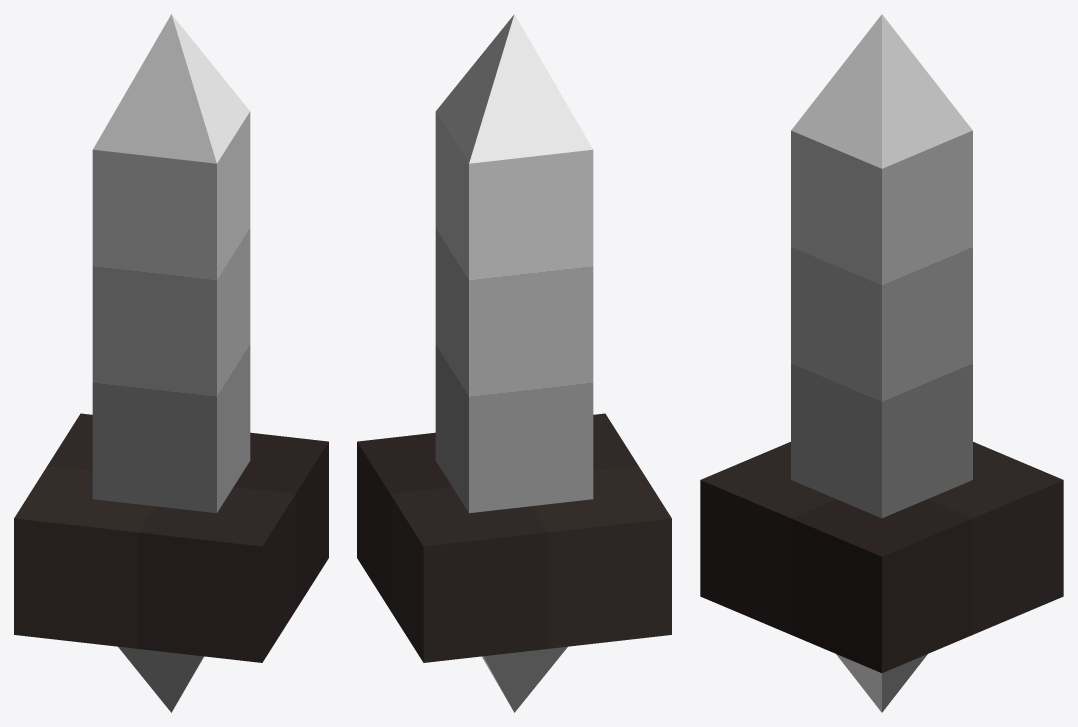
Rendered from crystal_candle.obj.
3 renders of one model, left to right at view 1: azimuth 30°, elevation 25°; view 2: azimuth 150°, elevation 25°; view 3: azimuth 270°, elevation 25°, orthographic.
Parts seen in each view (by area): view 1: VARIAGATOR_LIMB_ABOVE_TINTABLE.001_Cube.011, VARIAGATOR_LIMB_ABOVE.001_Cube.008; view 2: VARIAGATOR_LIMB_ABOVE_TINTABLE.001_Cube.011, VARIAGATOR_LIMB_ABOVE.001_Cube.008; view 3: VARIAGATOR_LIMB_ABOVE_TINTABLE.001_Cube.011, VARIAGATOR_LIMB_ABOVE.001_Cube.008.
Boxes of the visible parts, left/top/right/bottom form: VARIAGATOR_LIMB_ABOVE_TINTABLE.001_Cube.011: left=92, top=14, right=250, bottom=712; VARIAGATOR_LIMB_ABOVE.001_Cube.008: left=14, top=413, right=328, bottom=662; VARIAGATOR_LIMB_ABOVE_TINTABLE.001_Cube.011: left=435, top=14, right=593, bottom=712; VARIAGATOR_LIMB_ABOVE.001_Cube.008: left=357, top=413, right=671, bottom=662; VARIAGATOR_LIMB_ABOVE_TINTABLE.001_Cube.011: left=791, top=14, right=972, bottom=712; VARIAGATOR_LIMB_ABOVE.001_Cube.008: left=700, top=442, right=1063, bottom=672.
Bounding box in the file's own units: 0.1768 × 0.375 × 0.1768.
